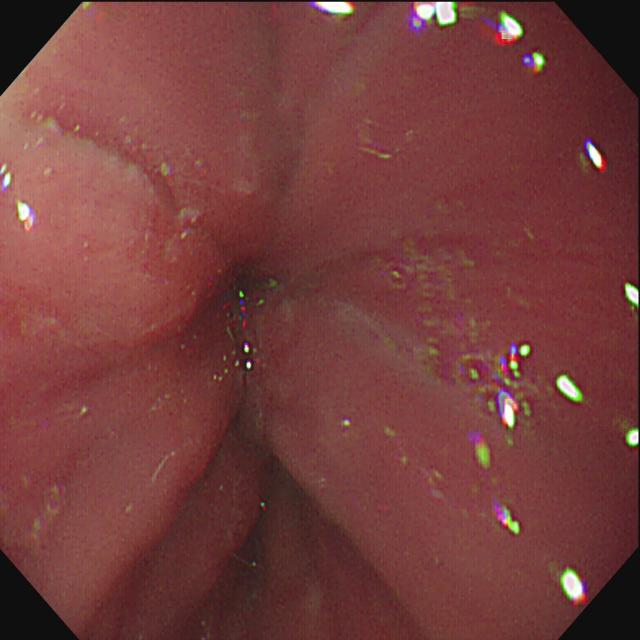U: (497, 345, 533, 431), (412, 2, 460, 31), (561, 568, 589, 607), (497, 12, 525, 49), (493, 503, 521, 535), (557, 376, 585, 406), (471, 433, 492, 471), (313, 2, 358, 17), (587, 141, 607, 173), (18, 201, 36, 235), (524, 51, 546, 75), (625, 284, 640, 308), (2, 164, 12, 193), (626, 429, 640, 449)
